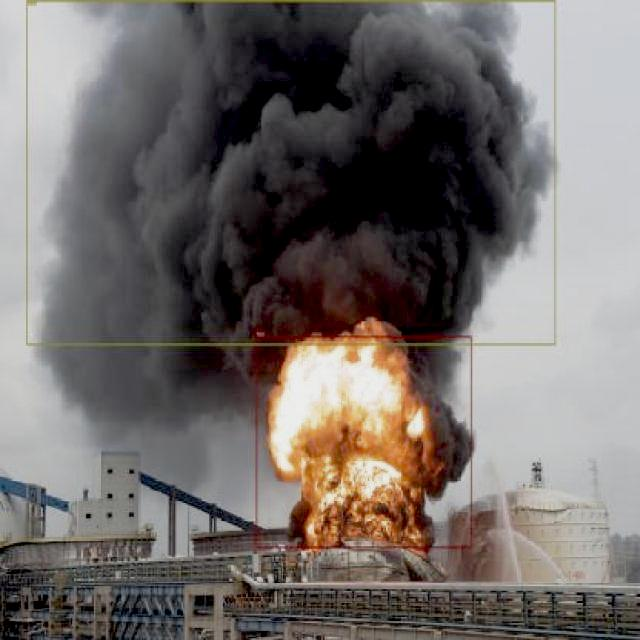fire: (256, 335, 472, 548)
smoke: (27, 0, 556, 345)
